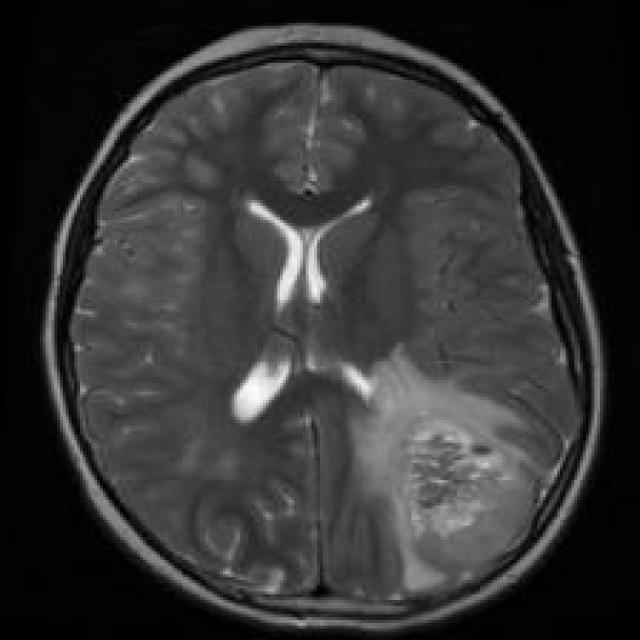Tumor: (343, 346, 546, 588)
